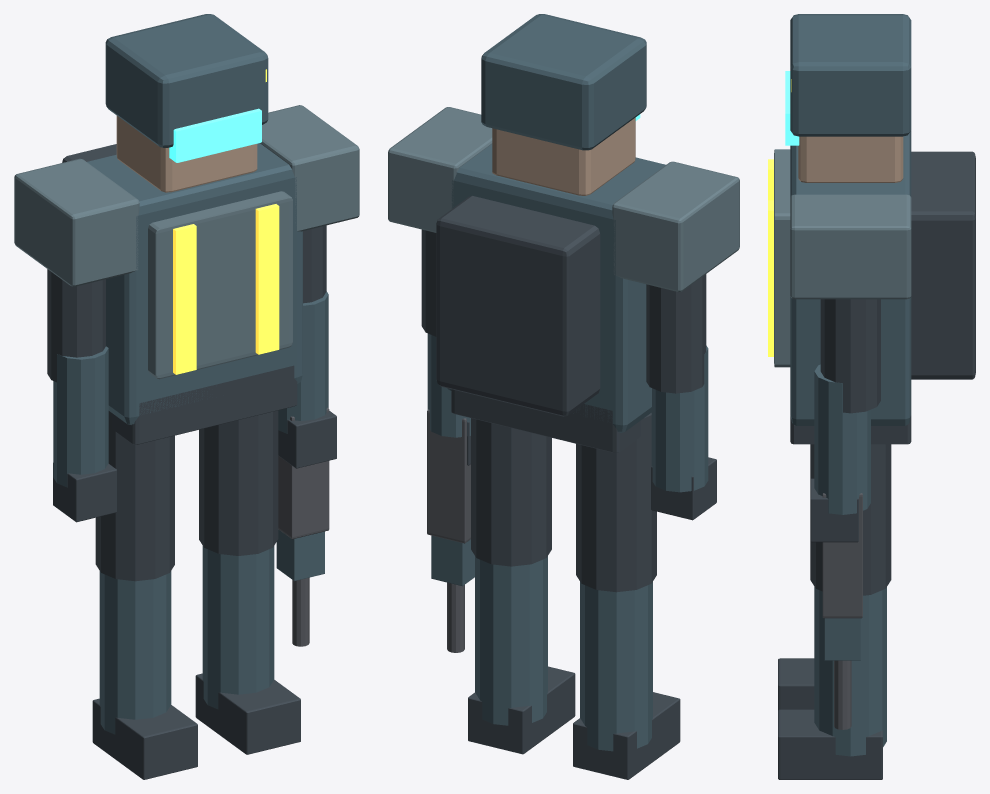
File: operative.glb
3 renders of one model, left to right at view 1: azimuth 30°, elevation 25°; view 2: azimuth 150°, elevation 25°; view 3: azimuth 270°, elevation 25°, orthographic.
Parts seen in each view (by area): view 1: Chest, ChestPlate, Helmet, Shoulder, UpperLegR, LowerLegR, LowerLegL, UpperLegL, Shoulder.001, Belt, ForearmL, BootL (+13 smaller); view 2: Backpack, Helmet, Chest, Shoulder, UpperLegL, LowerLegL, LowerLegR, UpperLegR, Shoulder.001, Skull, UpperArmL, ForearmL (+9 smaller); view 3: Helmet, Backpack, Shoulder.001, Chest, LowerLegR, ForearmR, UpperArmR, BootR, Skull, UpperLegR, ChestPlate, Receiver (+7 smaller).
Boxes of the visible parts, x1,y1,x2,y2 form: Chest: [87, 143, 302, 424]; ChestPlate: [148, 191, 292, 379]; Helmet: [105, 14, 268, 147]; Shoulder: [14, 158, 139, 286]; UpperLegR: [199, 410, 278, 555]; LowerLegR: [202, 546, 274, 709]; LowerLegL: [99, 571, 171, 734]; UpperLegL: [95, 411, 174, 581]; Shoulder.001: [260, 105, 359, 231]; Belt: [112, 365, 297, 444]; ForearmL: [53, 346, 108, 487]; BootL: [92, 698, 197, 779]; Backpack: [436, 196, 600, 416]; Helmet: [481, 14, 646, 150]; Chest: [447, 144, 665, 432]; Shoulder: [612, 161, 739, 291]; UpperLegL: [576, 413, 656, 592]; LowerLegL: [580, 582, 652, 751]; LowerLegR: [475, 556, 547, 725]; UpperLegR: [471, 418, 551, 566]; Shoulder.001: [388, 107, 492, 232]; Skull: [492, 117, 635, 195]; UpperArmL: [646, 274, 706, 393]; ForearmL: [651, 345, 708, 492]; Helmet: [790, 14, 911, 136]; Backpack: [911, 151, 975, 379]; Shoulder.001: [790, 194, 911, 299]; Chest: [790, 131, 911, 425]; LowerLegR: [814, 587, 886, 756]; ForearmR: [814, 364, 870, 514]; UpperArmR: [820, 299, 880, 413]; BootR: [778, 709, 882, 779]; Skull: [798, 136, 903, 182]; UpperLegR: [810, 444, 891, 595]; ChestPlate: [774, 149, 790, 367]; Receiver: [822, 493, 862, 618].
Size of the model in its own units: 0.84 by 1.92 by 0.515.
